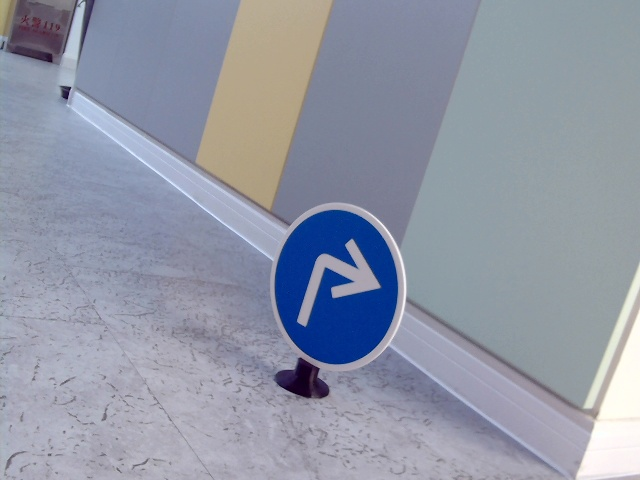turn_right: (298, 240, 381, 333)
